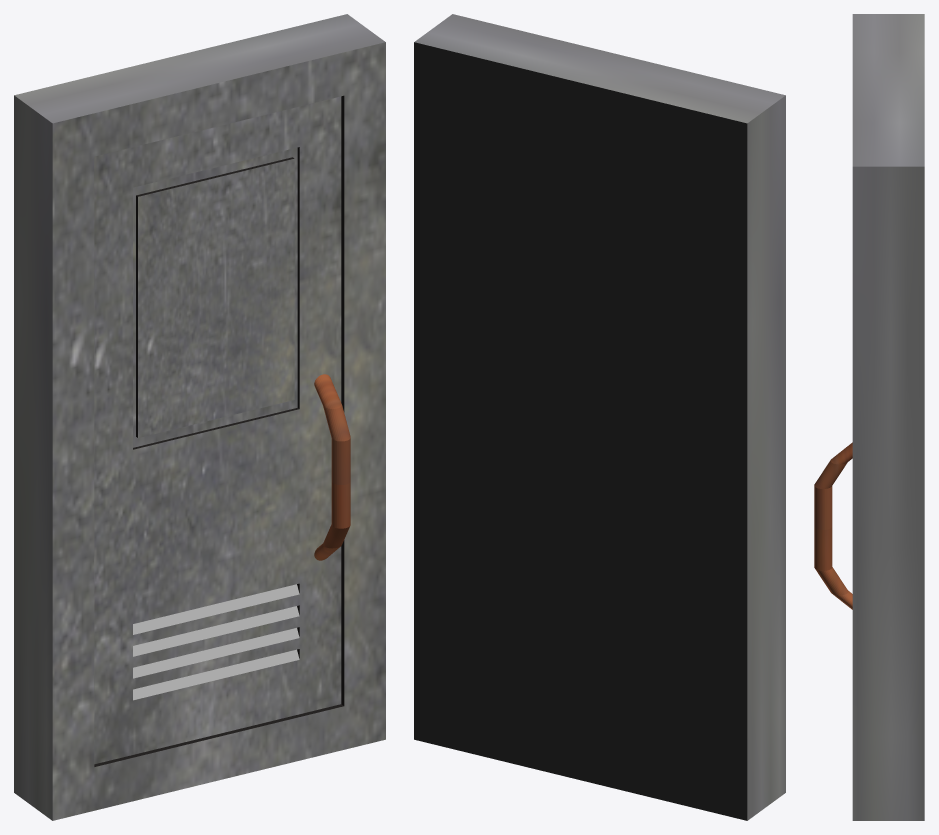
Rendered from refuge_station_door.obj.
3 views of the same model, side by side, from view 1: azimuth 30°, elevation 25°; view 2: azimuth 150°, elevation 25°; view 3: azimuth 270°, elevation 25° (orthographic). The views are drawn at different scales.
Parts seen in each view (by area): view 1: refuge_station_door; view 2: refuge_station_door; view 3: refuge_station_door.
Part boxes in pixels (left/top/right/bottom): refuge_station_door: left=14, top=14, right=385, bottom=820; refuge_station_door: left=414, top=14, right=785, bottom=820; refuge_station_door: left=814, top=14, right=924, bottom=820.
Bounding box in the file's own units: 1 × 2 × 0.3061.
Materials: 1 (1 with a texture image).
